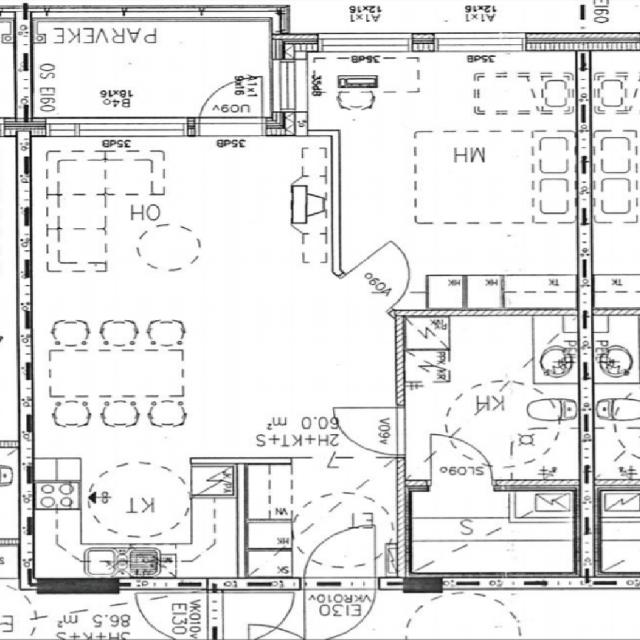door: (342, 240, 436, 310), (303, 526, 375, 590), (303, 577, 375, 640), (198, 71, 262, 136), (430, 435, 490, 491), (333, 408, 404, 455)
